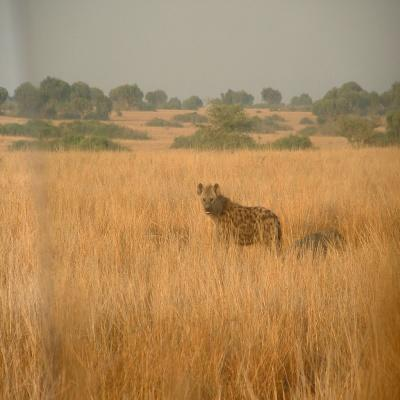hyenas: (182, 158, 319, 275)
